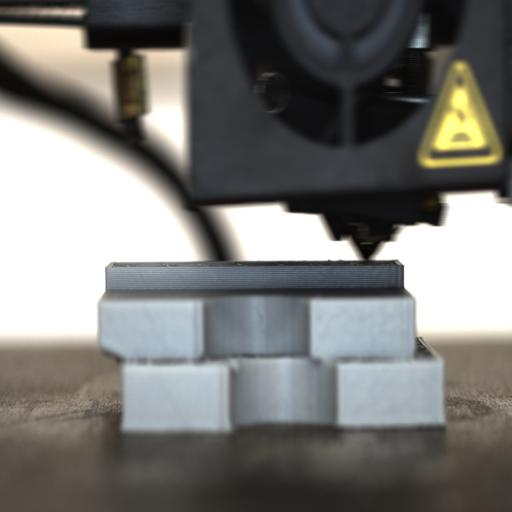layer_shift: (100, 344, 446, 374)
